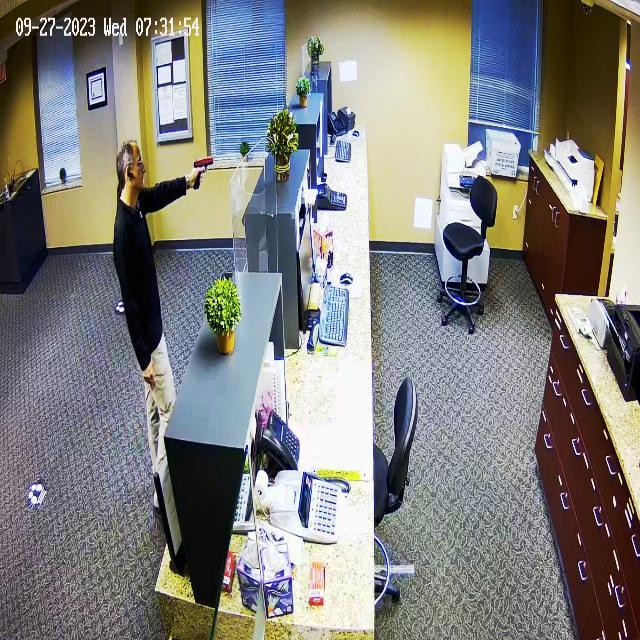Gun: (188, 152, 222, 196)
